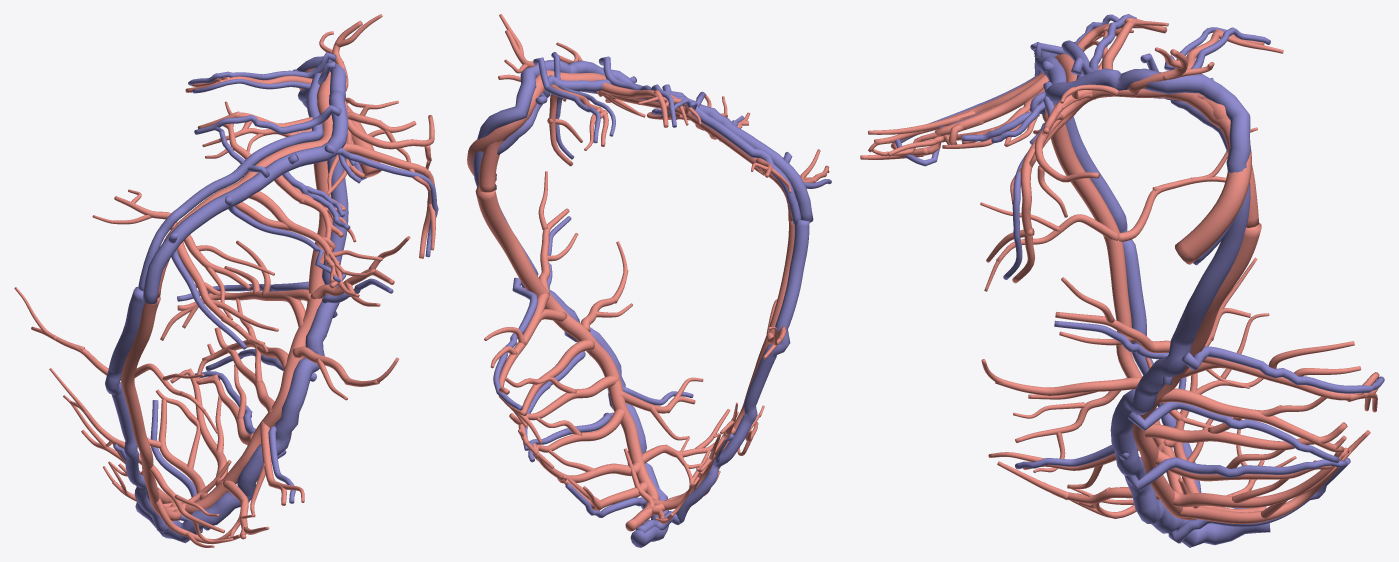
Rendered from vessels_34.glb.
3 views of the same model, side by side, from view 1: azimuth 30°, elevation 25°; view 2: azimuth 150°, elevation 25°; view 3: azimuth 270°, elevation 25° (orthographic). The views are drawn at different scales.
Visible parts, largest first — view 1: Renderer Node; view 2: Renderer Node; view 3: Renderer Node.
Boxes of the visible parts, bbox=[...] form: Renderer Node: bbox=[14, 14, 438, 547]; Renderer Node: bbox=[467, 14, 831, 547]; Renderer Node: bbox=[860, 14, 1384, 547].
Size of the model in its own units: 84.76 by 113 by 88.37.
